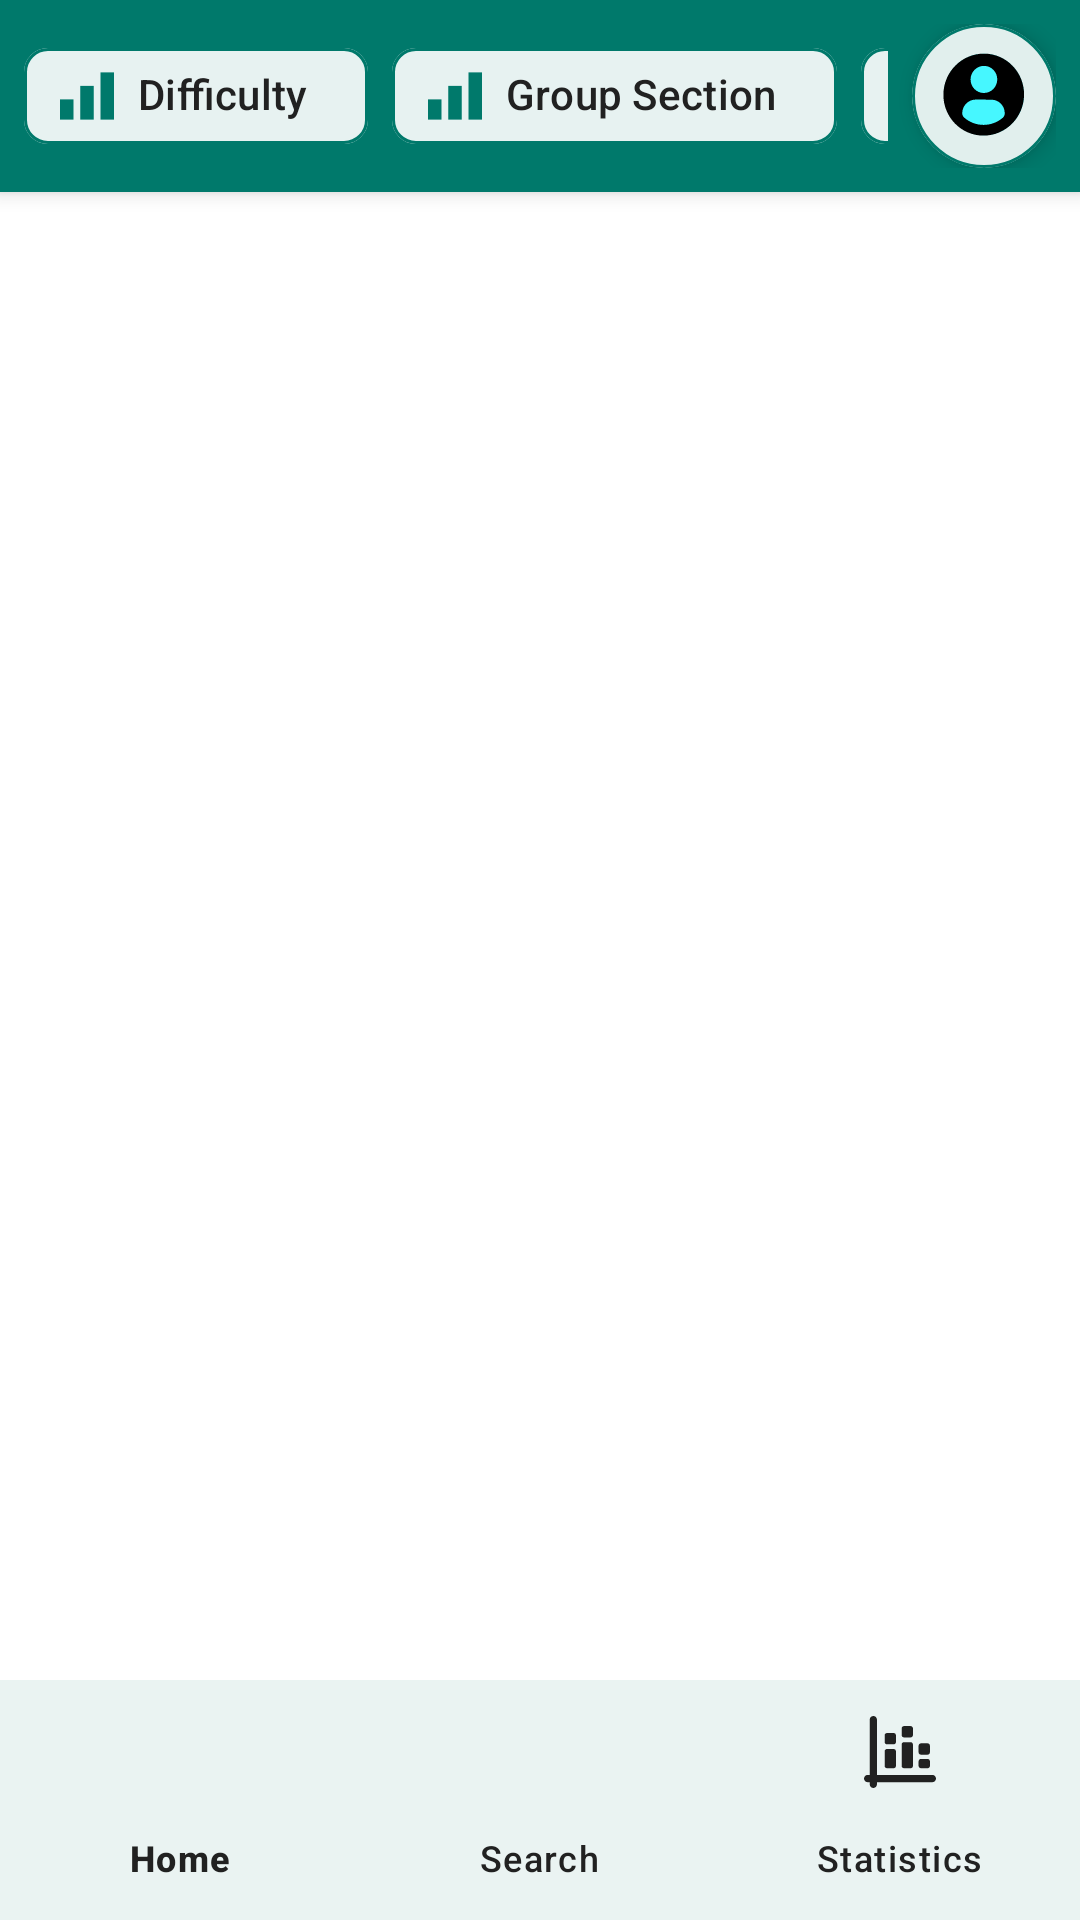

Where icons sit on this 1080px x 1920px app screen, as (x1, y1, x2, y2):
Profile image: (912, 24, 1056, 168)
